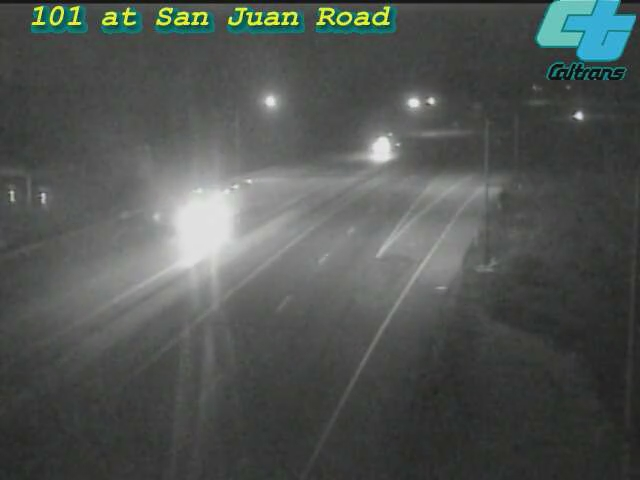vehicle: (174, 176, 254, 256), (359, 121, 409, 171), (553, 90, 603, 140)
